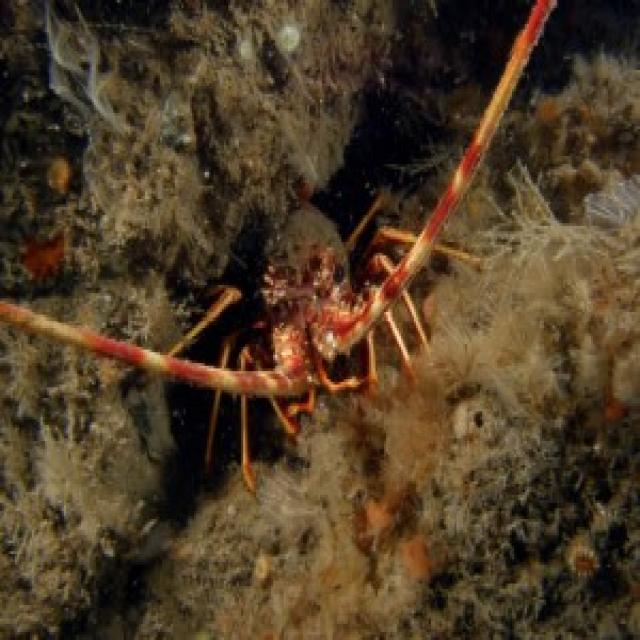lobsters: (7, 19, 591, 426)
